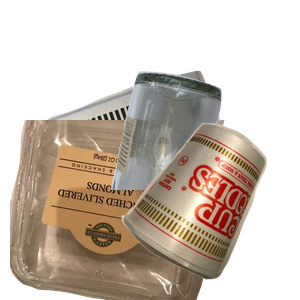glass: (109, 69, 300, 249)
paper: (42, 68, 275, 248)
plastic: (10, 120, 227, 300)
trash: (119, 121, 300, 300)
